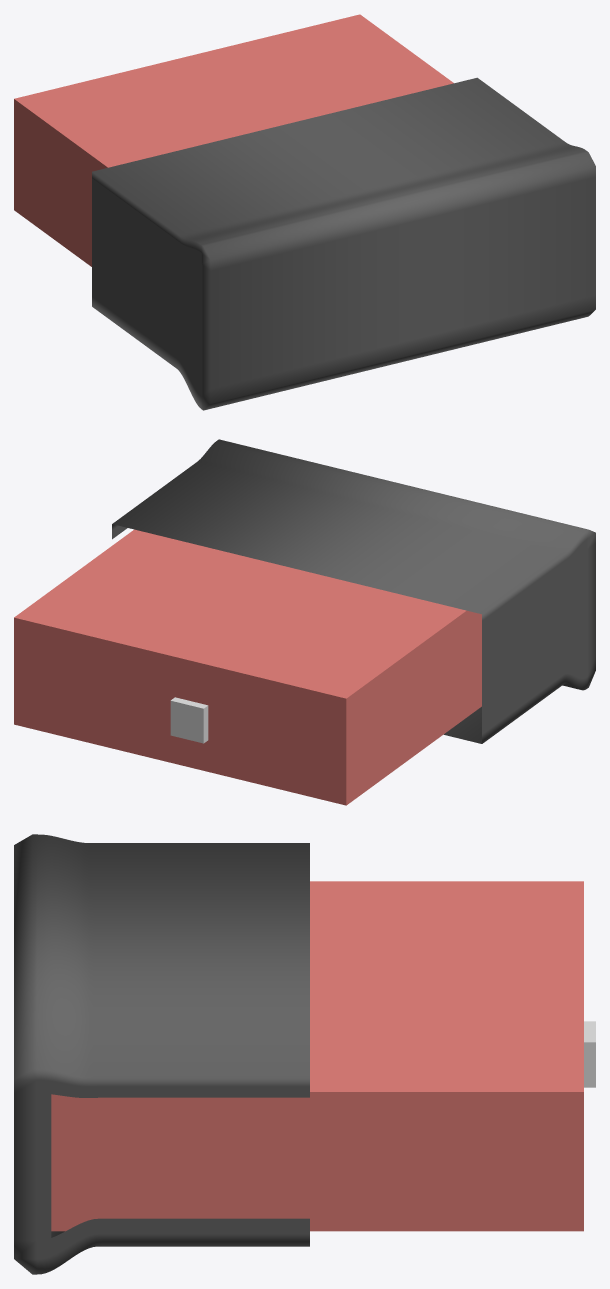
Rendered from oculos.dae.
The picture shows the model from 3 angles, top to bottom: view 1: azimuth 30°, elevation 25°; view 2: azimuth 150°, elevation 25°; view 3: azimuth 270°, elevation 25°; orthographic projection. The views are drawn at different scales.
Visible parts, largest first — view 1: armação, vidro; view 2: vidro, armação, laser; view 3: vidro, armação, laser.
Part boxes in pixels (bbox=[...]): armação: bbox=[92, 77, 595, 410]; vidro: bbox=[14, 14, 453, 266]; vidro: bbox=[14, 529, 481, 805]; armação: bbox=[112, 439, 595, 743]; laser: bbox=[170, 697, 208, 743]; vidro: bbox=[51, 881, 583, 1231]; armação: bbox=[14, 834, 309, 1274]; laser: bbox=[584, 1021, 595, 1087].
Size of the model in its own units: 2 by 2.1 by 0.8155.
